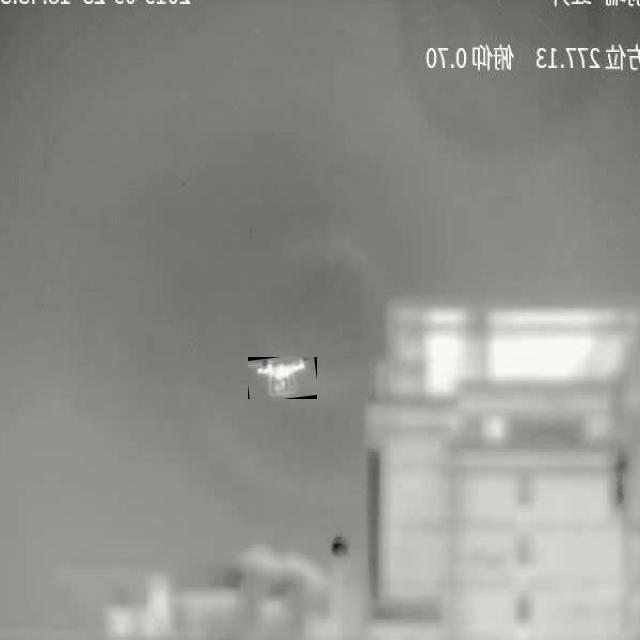drone: (248, 357, 315, 399)
